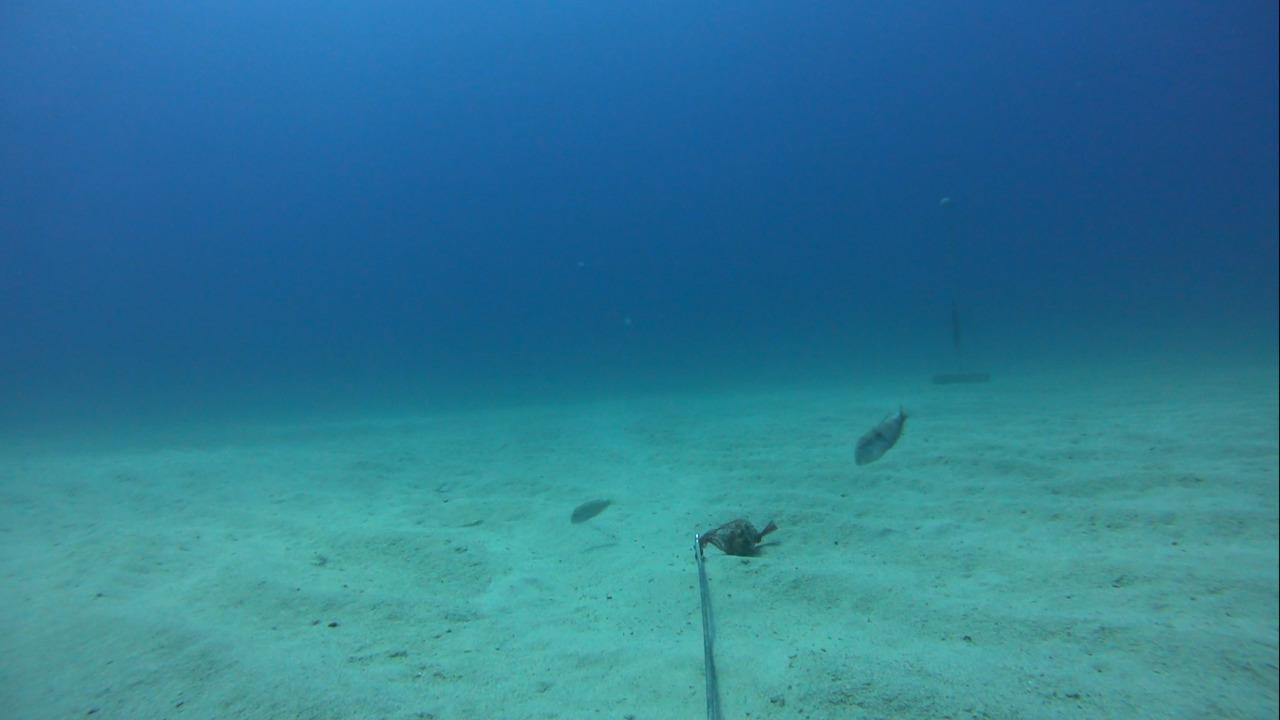raor: (850, 402, 915, 476), (560, 489, 615, 533)
